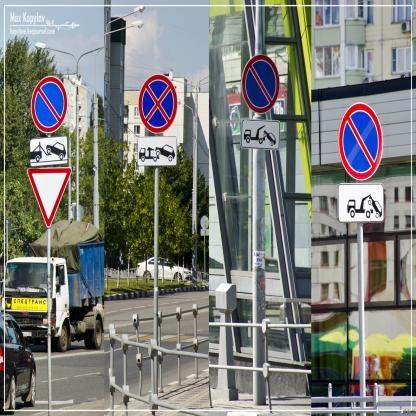road_sign: (339, 103, 383, 180), (28, 167, 72, 228), (242, 54, 280, 113), (139, 75, 177, 133), (32, 76, 67, 133), (339, 184, 384, 222), (30, 136, 67, 167), (138, 136, 176, 166), (242, 120, 279, 148)
